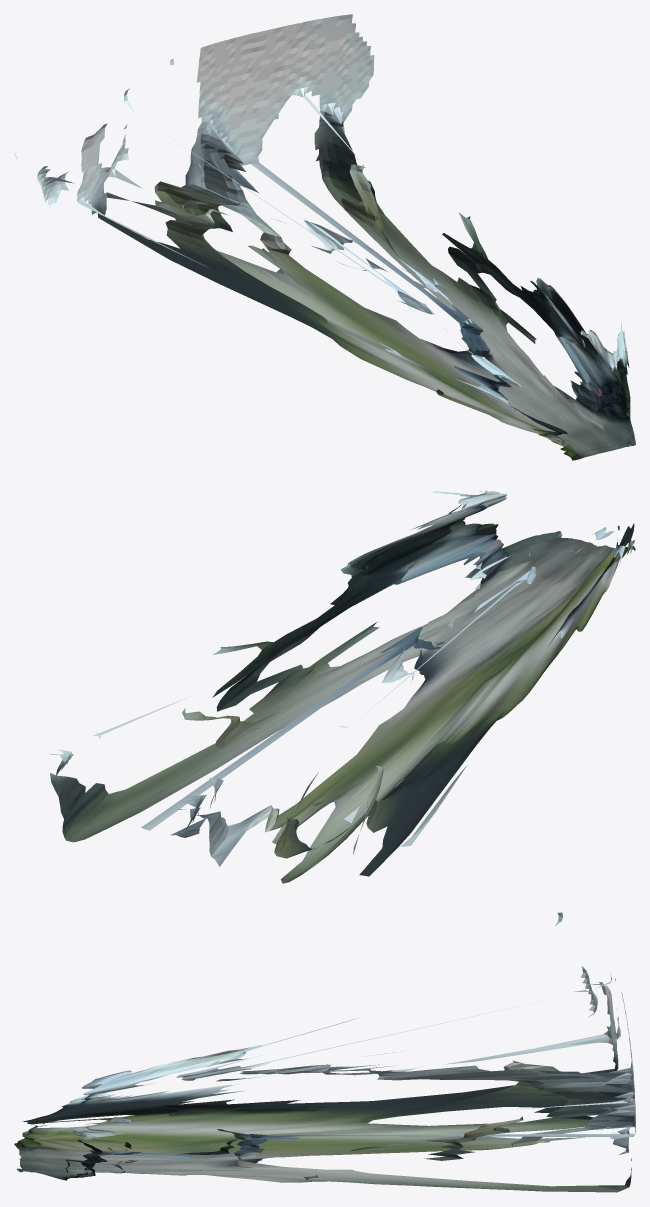
3 renders of one model, top to bottom at view 1: azimuth 30°, elevation 25°; view 2: azimuth 150°, elevation 25°; view 3: azimuth 270°, elevation 25°, orthographic. The views are drawn at different scales.
Visible parts, largest first — view 1: defaultobject; view 2: defaultobject; view 3: defaultobject.
Part boxes in pixels (bbox=[...]): defaultobject: bbox=[14, 14, 635, 460]; defaultobject: bbox=[48, 490, 635, 883]; defaultobject: bbox=[14, 912, 635, 1192].
Bounding box in the file's own units: 28.6 × 12 × 44.85.
Materials: 1 (1 with a texture image).
